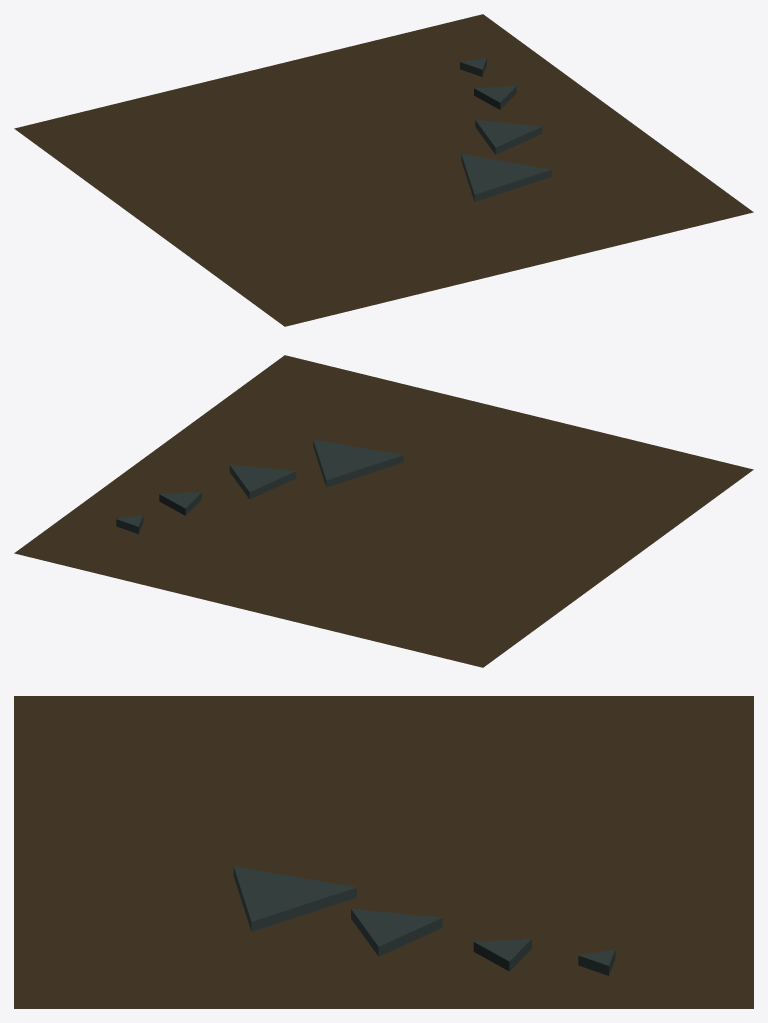
Rendered from Floor.007.fbx.
3 views of the same model, one above another, from view 1: azimuth 30°, elevation 25°; view 2: azimuth 150°, elevation 25°; view 3: azimuth 270°, elevation 25° (orthographic). The views are drawn at different scales.
Parts seen in each view (by area): view 1: Floor.007; view 2: Floor.007; view 3: Floor.007.
Part boxes in pixels (bbox=[...]): Floor.007: bbox=[14, 14, 753, 326]; Floor.007: bbox=[14, 355, 753, 667]; Floor.007: bbox=[14, 696, 753, 1008].
Bounding box in the file's own units: 100 × 2.99 × 100.
